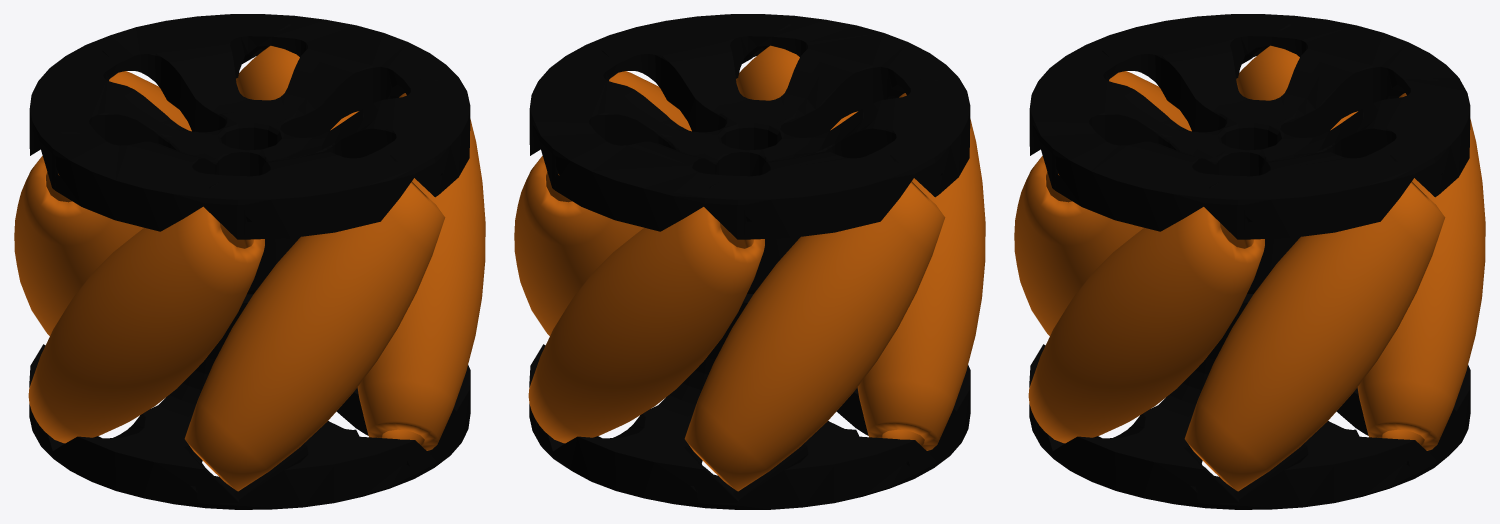
Rendered from front-left_wheel.obj.
The picture shows the model from 3 angles, left to right: view 1: azimuth 30°, elevation 25°; view 2: azimuth 150°, elevation 25°; view 3: azimuth 270°, elevation 25°; orthographic projection.
Visible parts, largest first — view 1: front-left_wheel_join_base-mesh.007; view 2: front-left_wheel_join_base-mesh.007; view 3: front-left_wheel_join_base-mesh.007.
Part boxes in pixels (left/top/right/bottom): front-left_wheel_join_base-mesh.007: left=14, top=14, right=485, bottom=509; front-left_wheel_join_base-mesh.007: left=514, top=14, right=985, bottom=509; front-left_wheel_join_base-mesh.007: left=1014, top=14, right=1485, bottom=509.
Bounding box in the file's own units: 0.0999 × 0.0731 × 0.0997.
